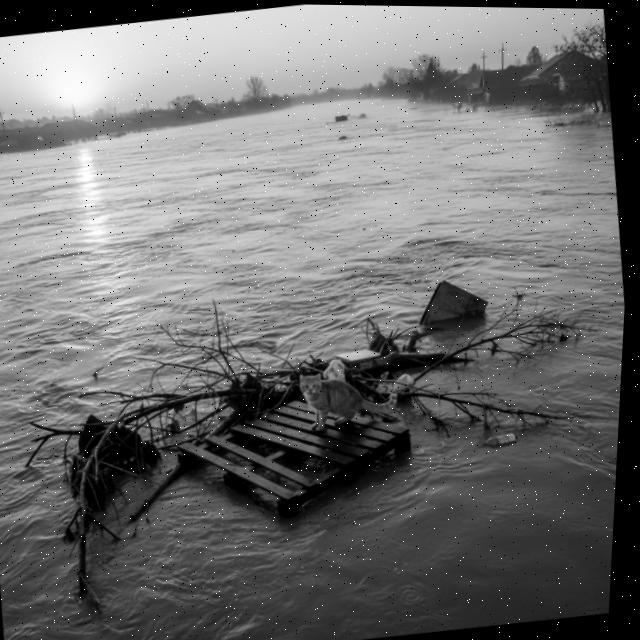cat: (282, 353, 414, 441)
